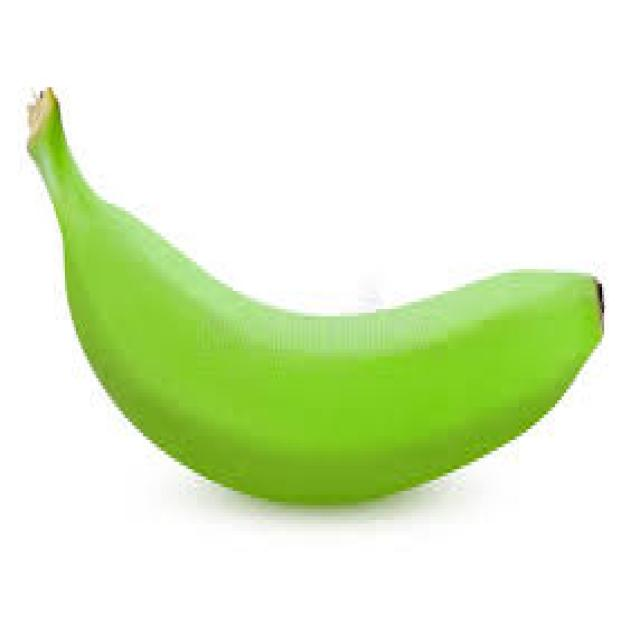non_orange: (27, 90, 608, 508)
